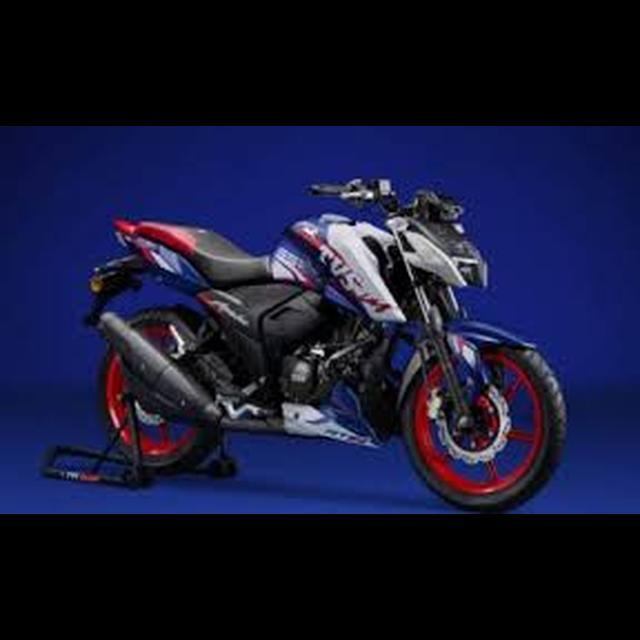motorcycle: (75, 165, 578, 520)
